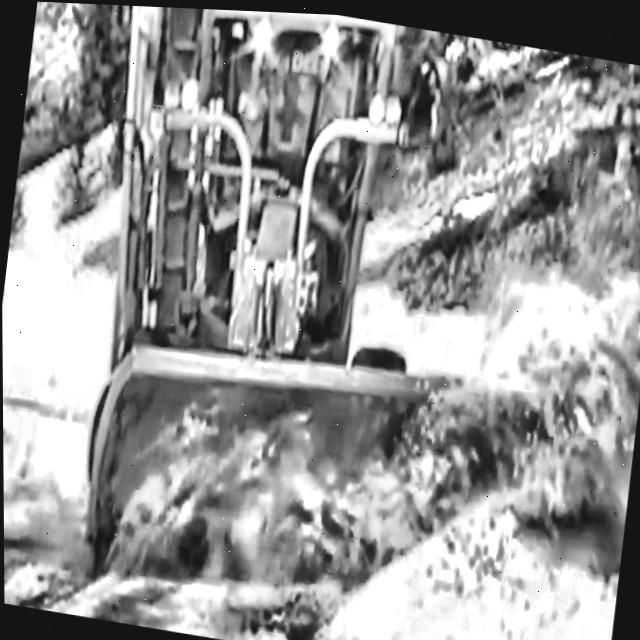buldozerpayloadergrader: (55, 2, 514, 631)
